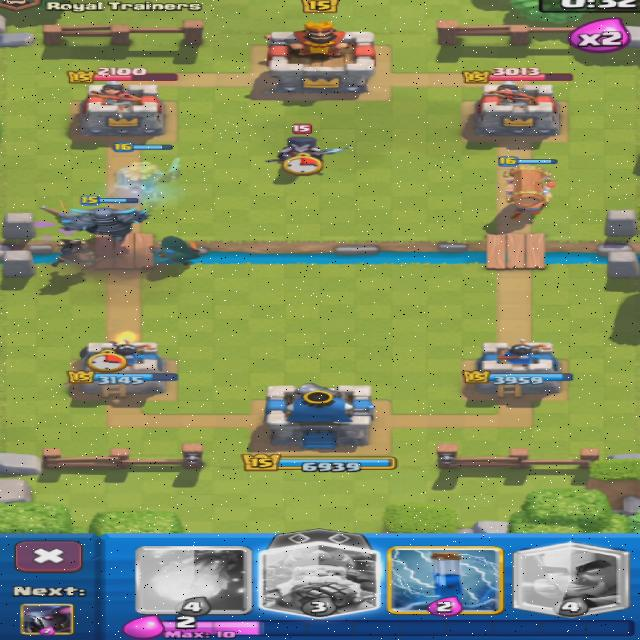Enemy-KingTower: (267, 22, 374, 94)
Enemy-NightWitch: (265, 136, 355, 164)
Enemy-PrincessTower: (78, 77, 163, 137), (474, 81, 559, 137)
Player-Bandit: (155, 236, 199, 265)
Player-BattleRam: (503, 165, 551, 219)
Player-ElectroWizard: (53, 238, 93, 267)
Player-KingTower-Activated: (266, 383, 373, 449)
Player-PEKKA: (60, 207, 147, 240)
Player-PrincessTower: (66, 338, 178, 397), (462, 339, 571, 398)
Player-RoyalGhost: (116, 158, 178, 198)
